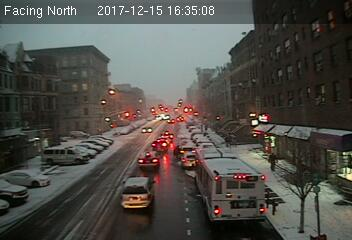bus: (195, 148, 265, 223)
car: (120, 176, 156, 209), (137, 152, 161, 169), (181, 152, 197, 169), (152, 140, 168, 151)
